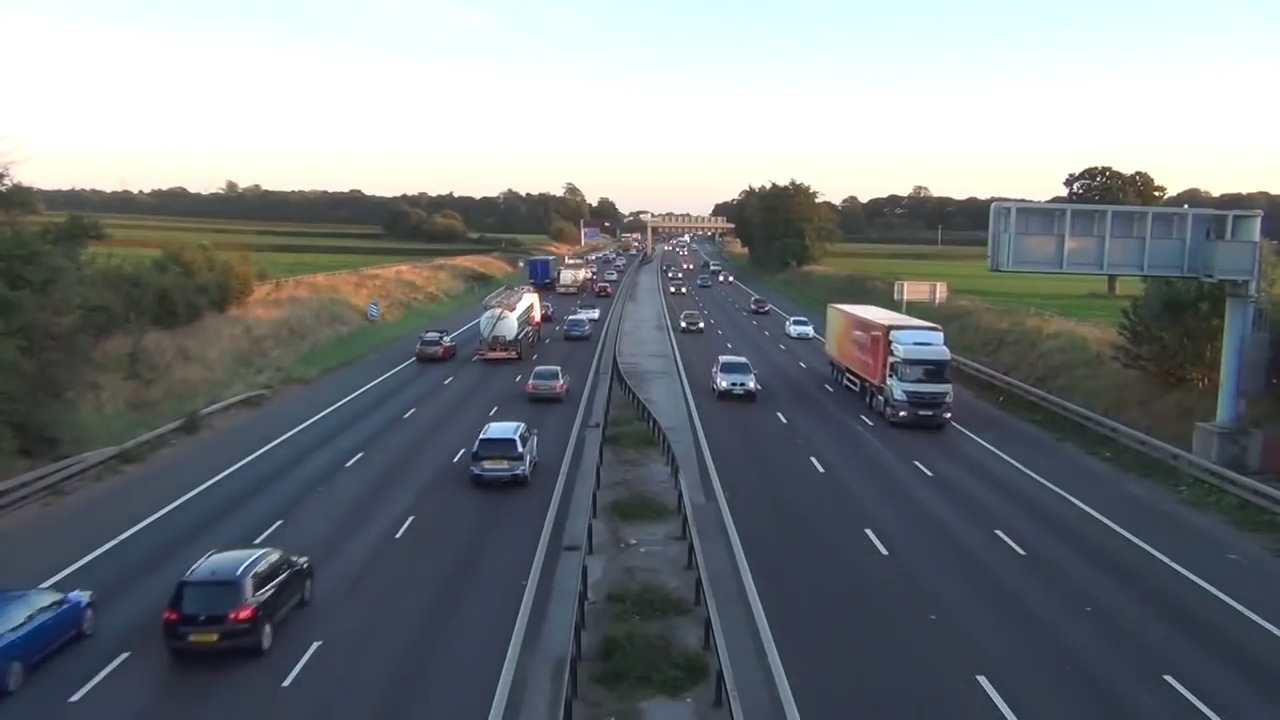truck: (824, 295, 955, 431)
